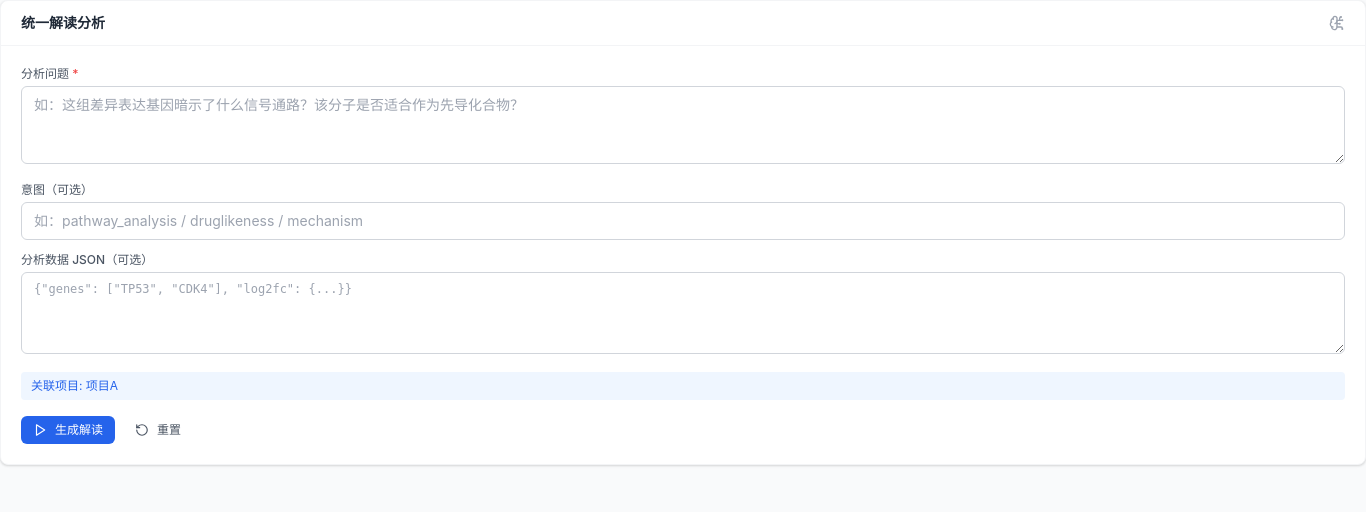
Scenario: AnalysisInterpretCard › 空问题提交显示验证错误
Click the button "生成解读" at (68, 430), box 21,416 -> 115,444
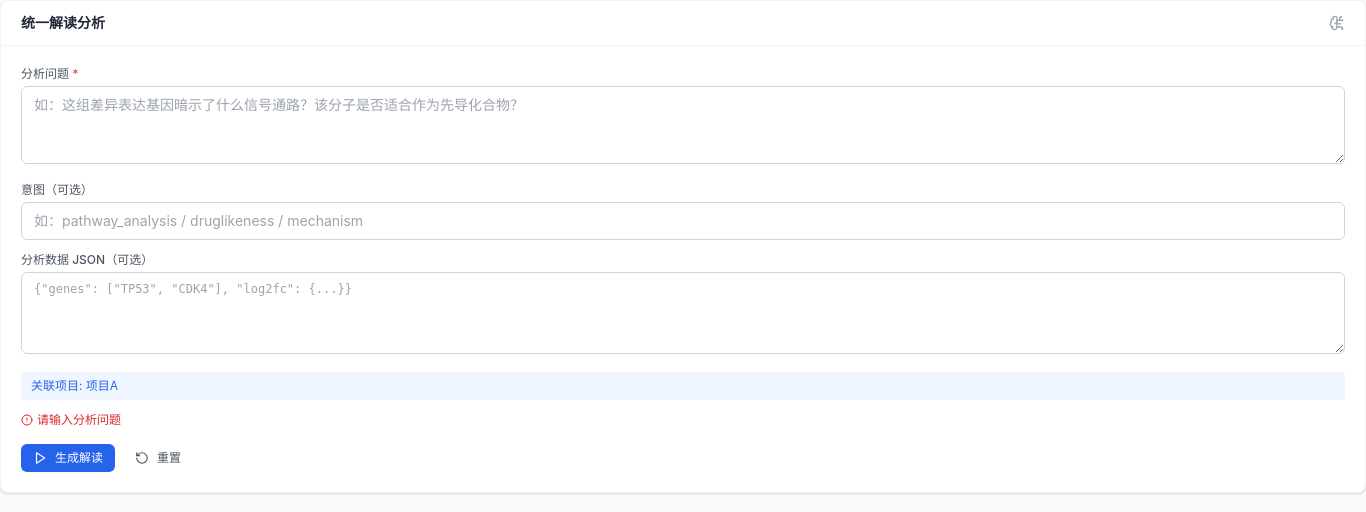
expect the text "请输入分析问题" is shown: met, box 37,412 -> 121,428
